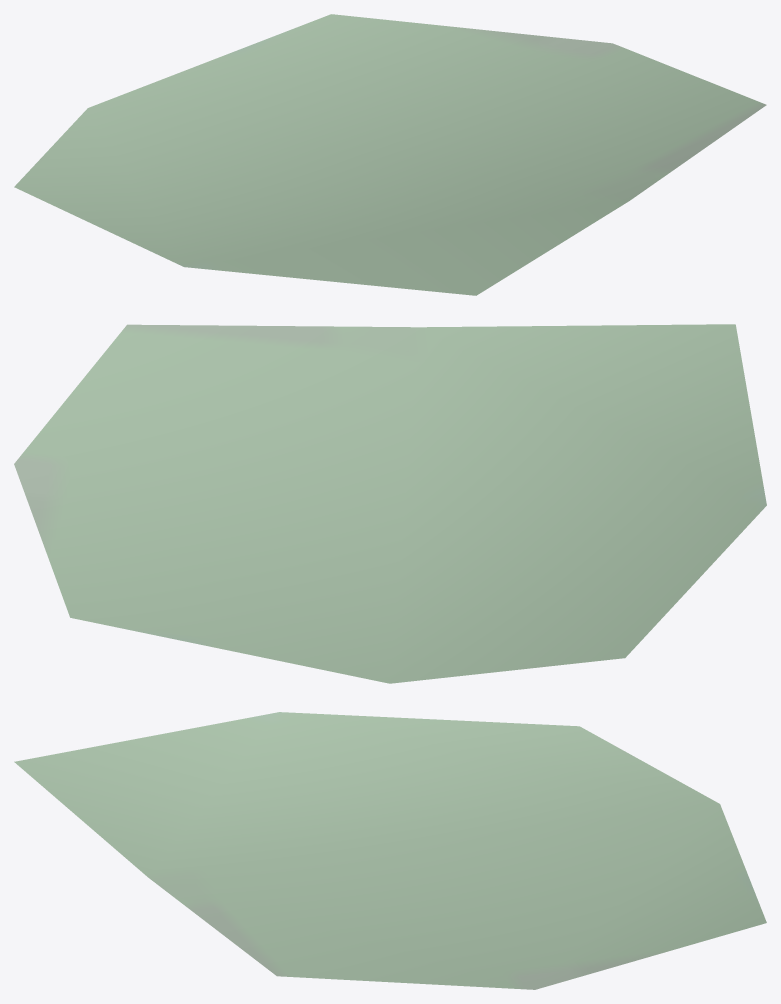
Rendered from TROLLHOLE02_HOLECAP33.fbx.
The picture shows the model from 3 angles, top to bottom: view 1: azimuth 30°, elevation 25°; view 2: azimuth 150°, elevation 25°; view 3: azimuth 270°, elevation 25°; orthographic projection. The views are drawn at different scales.
Parts seen in each view (by area): view 1: TROLLHOLE02_HOLECAP33; view 2: TROLLHOLE02_HOLECAP33; view 3: TROLLHOLE02_HOLECAP33.
Part boxes in pixels (<box>): TROLLHOLE02_HOLECAP33: <box>14,14,766,295</box>; TROLLHOLE02_HOLECAP33: <box>14,324,766,683</box>; TROLLHOLE02_HOLECAP33: <box>14,712,766,989</box>.
Bounding box in the file's own units: 24339 × 2321 × 26197.
Materials: 1 (1 with a texture image).
